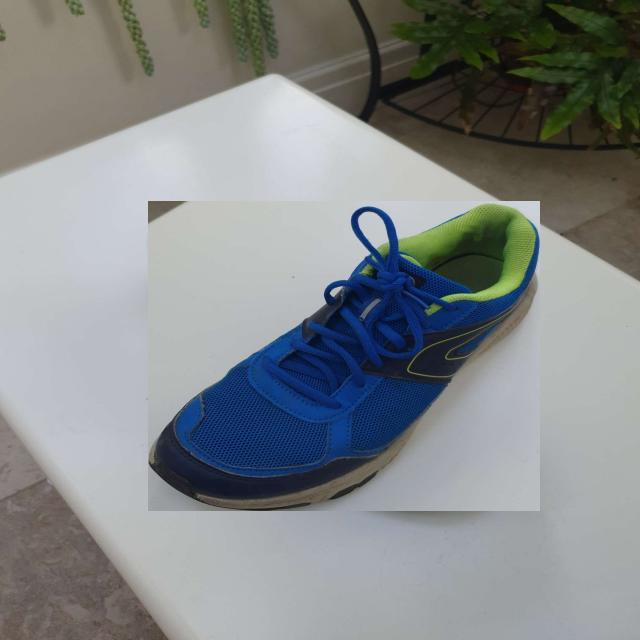shoe: (148, 201, 540, 511)
